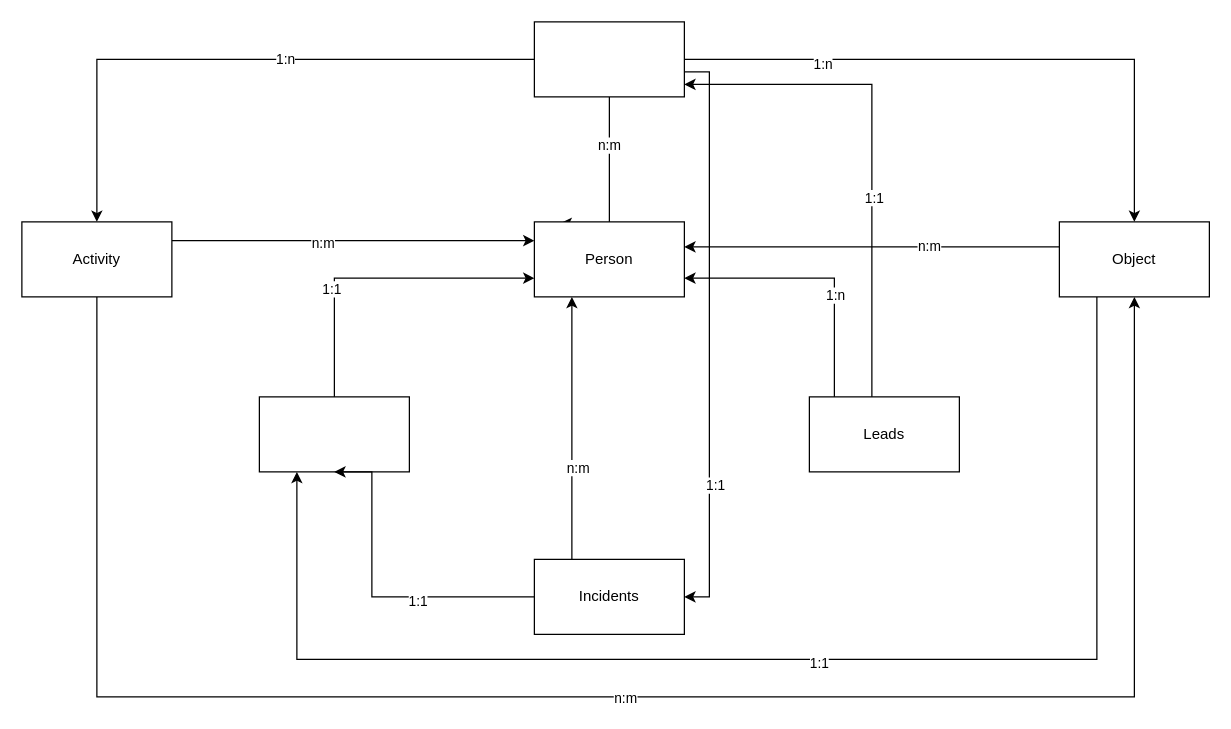
Image size: 1231x729. Some labels were removed from this diagram. The shapes that lost their labels are listed below. From the top down, each one's box as (x1, y1, x2, y2) in pixels, then its label:
(533, 21, 684, 97): Cases
(258, 396, 409, 472): Location
